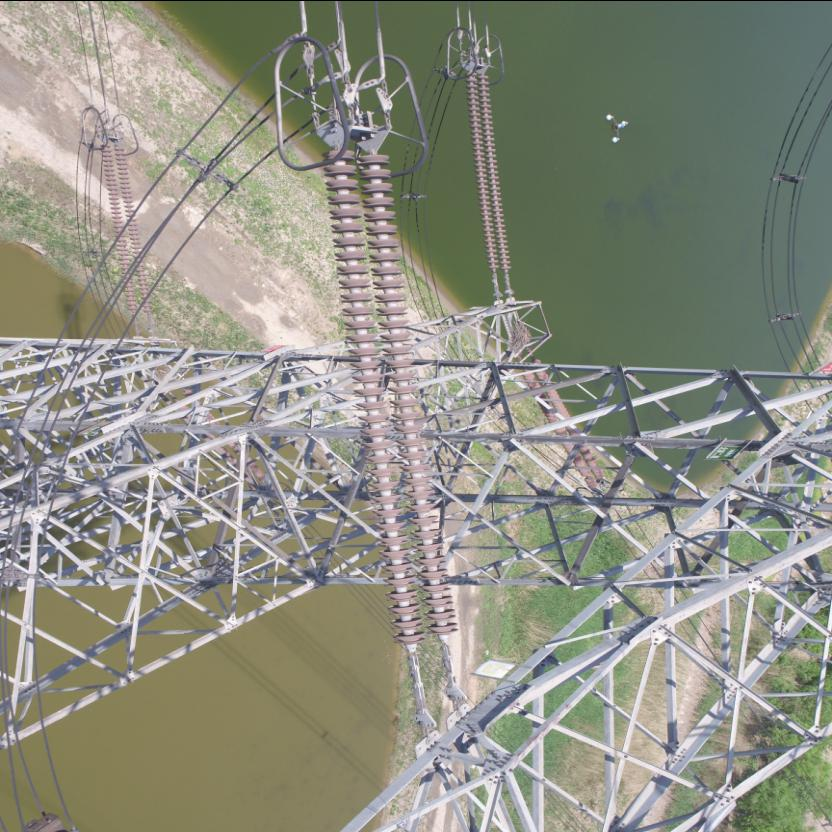insulator: (319, 136, 461, 666), (465, 64, 516, 283), (100, 133, 155, 323)
